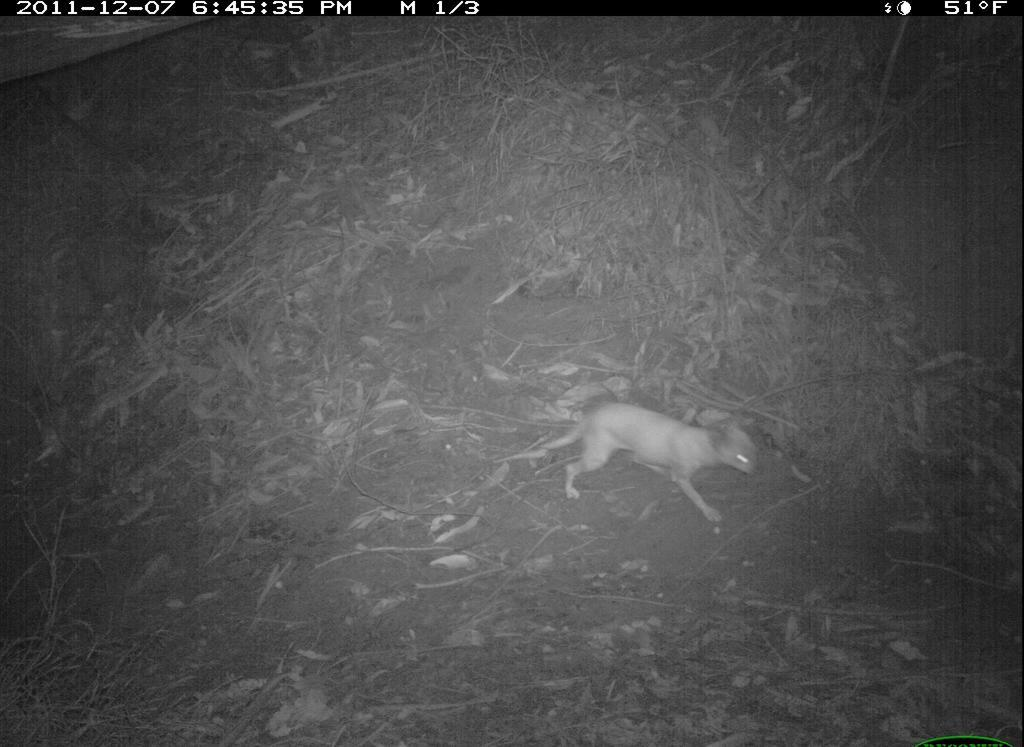dog: (536, 401, 763, 528)
